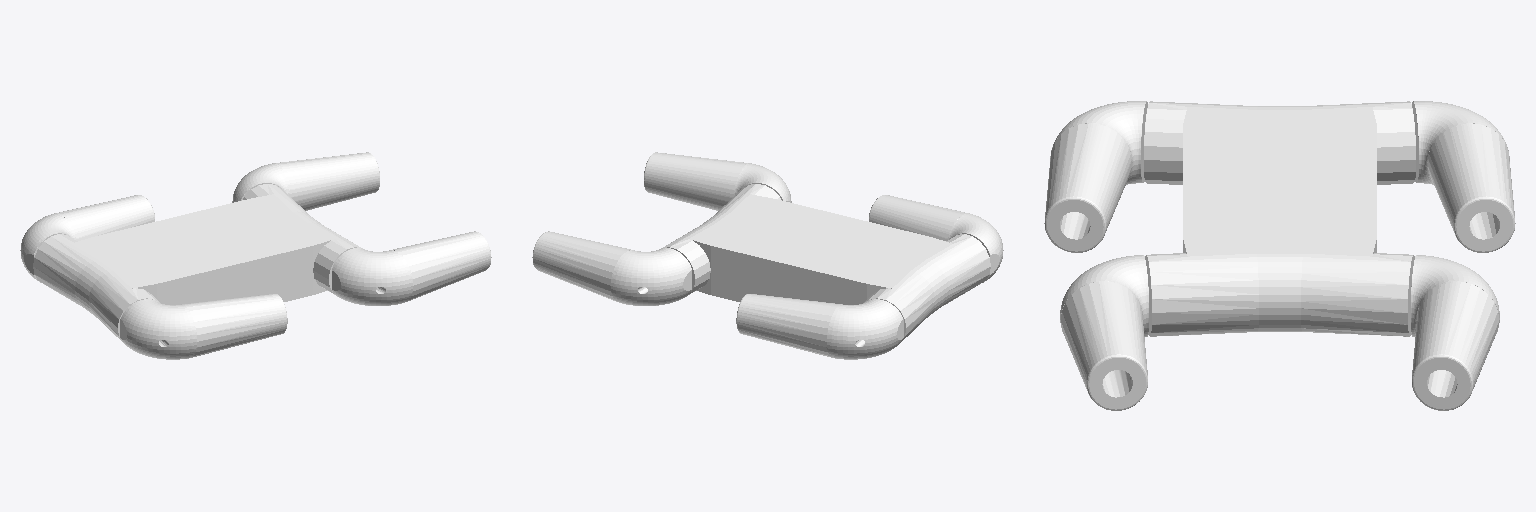
URDF robot description (6_degree):
<?xml version="1.0" encoding="utf-8"?>
<!-- This URDF was automatically created by SolidWorks to URDF Exporter! Originally created by [author] ([email redacted]) 
     Commit Version: 1.5.1-0-g916b5db  Build Version: 1.5.7152.31018
     For more information, please see http://wiki.ros.org/sw_urdf_exporter -->
<robot
  name="6_degree">
  <link
    name="base_link">
    <inertial>
      <origin
        xyz="-6.9389E-18 1.6401E-08 1.7347E-18"
        rpy="0 0 0" />
      <mass
        value="2.942" />
      <inertia
        ixx="0.0102629"
        ixy="-1.8926E-18"
        ixz="-1.5077E-10"
        iyy="0.0394654"
        iyz="-2.7022E-19"
        izz="0.0473397" />
    </inertial>
    <visual>
      <origin
        xyz="0 0 0"
        rpy="0 0 0" />
      <geometry>
        <mesh
          filename="package://6_degree/meshes/base_link.STL" />
      </geometry>
      <material
        name="">
        <color
          rgba="1 1 1 1" />
      </material>
    </visual>
    <collision>
      <origin
        xyz="0 0 0"
        rpy="0 0 0" />
      <geometry>
        <mesh
          filename="package://6_degree/meshes/base_link.STL" />
      </geometry>
    </collision>
  </link>
  <link
    name="left_front_link">
    <inertial>
      <origin
        xyz="-3.0104E-08 0.056829 -0.036011"
        rpy="0 0 0" />
      <mass
        value="0.092" />
      <inertia
        ixx="0.0002604"
        ixy="6.0354E-10"
        ixz="9.5063E-10"
        iyy="0.0000526"
        iyz="2.27E-05"
        izz="0.0002575" />
    </inertial>
    <visual>
      <origin
        xyz="0 0 0"
        rpy="0 0 0" />
      <geometry>
        <mesh
          filename="package://6_degree/meshes/left_front_link.STL" />
      </geometry>
      <material
        name="">
        <color
          rgba="1 1 1 1" />
      </material>
    </visual>
    <collision>
      <origin
        xyz="0 0 0"
        rpy="0 0 0" />
      <geometry>
        <mesh
          filename="package://6_degree/meshes/left_front_link.STL" />
      </geometry>
    </collision>
  </link>
  <joint
    name="left_front_leg"
    type="continuous">
    <origin
      xyz="0.14077 0.10244 0"
      rpy="1.6755 1.5708 0" />
    <parent
      link="base_link" />
    <child
      link="left_front_link" />
    <axis
      xyz="0 0 -1" />
    <limit
      effort="5"
      velocity="487" />
  </joint>
  <link
    name="right_front_link">
    <inertial>
      <origin
        xyz="3.0104E-08 0.056829 0.036011"
        rpy="0 0 0" />
      <mass
        value="0.092" />
      <inertia
        ixx="0.0002604"
        ixy="-6.0354E-10"
        ixz="9.5063E-10"
        iyy="0.0000526"
        iyz="-2.27E-05"
        izz="0.0002575" />
    </inertial>
    <visual>
      <origin
        xyz="0 0 0"
        rpy="0 0 0" />
      <geometry>
        <mesh
          filename="package://6_degree/meshes/right_front_link.STL" />
      </geometry>
      <material
        name="">
        <color
          rgba="1 1 1 1" />
      </material>
    </visual>
    <collision>
      <origin
        xyz="0 0 0"
        rpy="0 0 0" />
      <geometry>
        <mesh
          filename="package://6_degree/meshes/right_front_link.STL" />
      </geometry>
    </collision>
  </link>
  <joint
    name="right_front_leg"
    type="continuous">
    <origin
      xyz="0.14077 -0.10244 0"
      rpy="1.4661 1.5708 0" />
    <parent
      link="base_link" />
    <child
      link="right_front_link" />
    <axis
      xyz="0 0 1" />
    <limit
      effort="5"
      velocity="487" />
  </joint>
  <link
    name="right_back_link">
    <inertial>
      <origin
        xyz="6.1735E-09 0.05683 0.03601"
        rpy="0 0 0" />
      <mass
        value="0.092" />
      <inertia
        ixx="0.0002604"
        ixy="-6.7284E-10"
        ixz="6.8395E-10"
        iyy="0.0000526"
        iyz="-2.27E-05"
        izz="0.0002575" />
    </inertial>
    <visual>
      <origin
        xyz="0 0 0"
        rpy="0 0 0" />
      <geometry>
        <mesh
          filename="package://6_degree/meshes/right_back_link.STL" />
      </geometry>
      <material
        name="">
        <color
          rgba="1 1 1 1" />
      </material>
    </visual>
    <collision>
      <origin
        xyz="0 0 0"
        rpy="0 0 0" />
      <geometry>
        <mesh
          filename="package://6_degree/meshes/right_back_link.STL" />
      </geometry>
    </collision>
  </link>
  <joint
    name="right_back_leg"
    type="continuous">
    <origin
      xyz="-0.14077 -0.10244 0"
      rpy="1.6755 1.5708 0" />
    <parent
      link="base_link" />
    <child
      link="right_back_link" />
    <axis
      xyz="0 0 1" />
    <limit
      effort="5"
      velocity="487" />
  </joint>
  <link
    name="left_back_link">
    <inertial>
      <origin
        xyz="-6.1735E-09 0.05683 -0.03601"
        rpy="0 0 0" />
      <mass
        value="0.092" />
      <inertia
        ixx="0.0002604"
        ixy="6.7284E-10"
        ixz="6.8395E-10"
        iyy="0.0000526"
        iyz="2.27E-05"
        izz="0.0002575" />
    </inertial>
    <visual>
      <origin
        xyz="0 0 0"
        rpy="0 0 0" />
      <geometry>
        <mesh
          filename="package://6_degree/meshes/left_back_link.STL" />
      </geometry>
      <material
        name="">
        <color
          rgba="1 1 1 1" />
      </material>
    </visual>
    <collision>
      <origin
        xyz="0 0 0"
        rpy="0 0 0" />
      <geometry>
        <mesh
          filename="package://6_degree/meshes/left_back_link.STL" />
      </geometry>
    </collision>
  </link>
  <joint
    name="left_back_leg"
    type="continuous">
    <origin
      xyz="-0.14077 0.10244 0"
      rpy="1.4661 1.5708 0" />
    <parent
      link="base_link" />
    <child
      link="left_back_link" />
    <axis
      xyz="0 0 -1" />
    <limit
      effort="5"
      velocity="487" />
  </joint>
</robot>

--- Facts derived from the render (not from the file) ---
3 views of the same robot in one strip: view 1: azimuth 30°, elevation 25°; view 2: azimuth 150°, elevation 25°; view 3: azimuth 270°, elevation 25° (orthographic).
Robot: 6_degree — 5 links, 4 joints (4 continuous); root link base_link; default pose: every joint at zero.
Links seen in each view (by area): view 1: base_link, right_back_link, right_front_link, left_front_link, left_back_link; view 2: base_link, left_back_link, left_front_link, right_front_link, right_back_link; view 3: base_link, left_back_link, right_back_link, right_front_link, left_front_link.
Boxes of the visible links, x1,y1,x2,y2 form: base_link: [33, 184, 360, 340]; right_back_link: [120, 294, 287, 359]; right_front_link: [332, 231, 491, 305]; left_front_link: [232, 152, 379, 210]; left_back_link: [20, 195, 154, 282]; base_link: [663, 184, 990, 340]; left_back_link: [736, 294, 903, 359]; left_front_link: [532, 231, 691, 305]; right_front_link: [644, 152, 791, 210]; right_back_link: [869, 195, 1003, 282]; base_link: [1144, 101, 1415, 336]; left_back_link: [1412, 101, 1515, 252]; right_back_link: [1044, 101, 1147, 252]; right_front_link: [1060, 255, 1148, 410]; left_front_link: [1411, 255, 1499, 410].
Size in the robot's own frame: 0.477 by 0.3655 by 0.064 metres.
Meshes: 5 distinct files referenced, 5 mesh visuals loaded (5 binary STL).